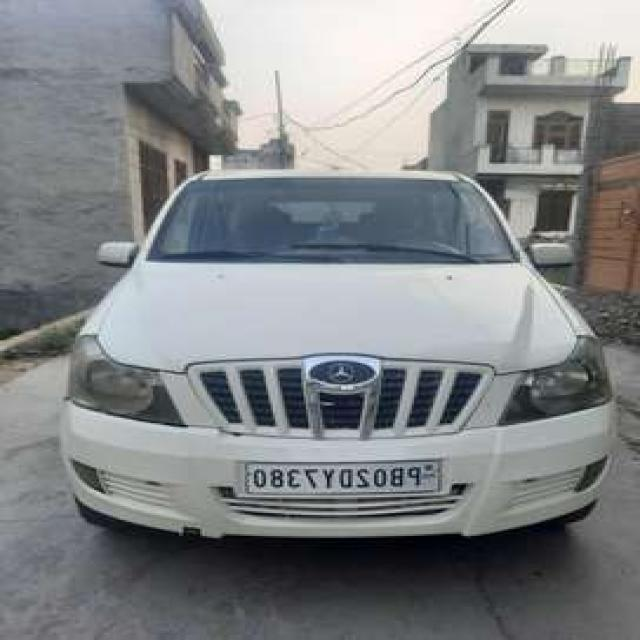license_plate: (238, 453, 447, 505)
